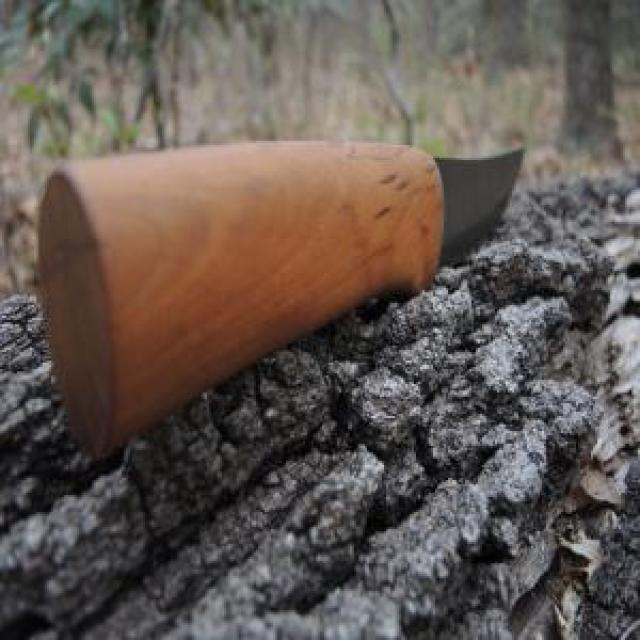knife: (51, 134, 538, 408)
